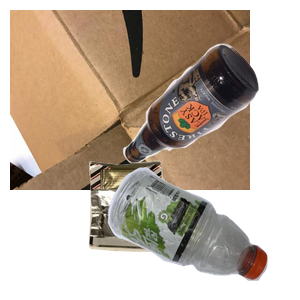cardboard: (10, 10, 250, 190)
glass: (120, 41, 300, 196)
plastic: (105, 165, 300, 300)
trash: (86, 158, 242, 300)
